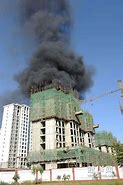smoke: (15, 1, 90, 92)
